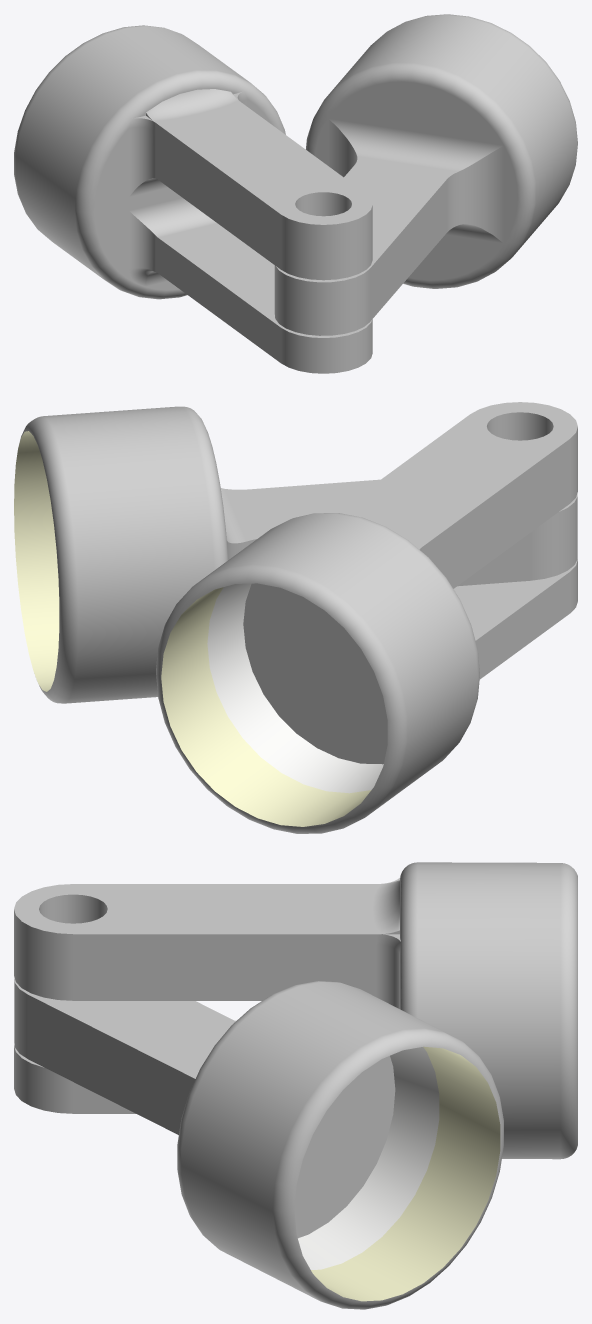
The model's file is goofin.glb.
3 views of the same model, one above another, from view 1: azimuth 30°, elevation 25°; view 2: azimuth 150°, elevation 25°; view 3: azimuth 270°, elevation 25° (orthographic). The views are drawn at different scales.
Parts seen in each view (by area): view 1: bend_b, bend_a; view 2: bend_b, bend_a; view 3: bend_a, bend_b.
Boxes of the visible parts, box(x1,y1,x2,y2) form: bend_b: box(14, 25, 372, 373); bend_a: box(274, 14, 577, 335); bend_b: box(156, 402, 577, 833); bend_a: box(14, 406, 577, 703); bend_a: box(14, 977, 503, 1309); bend_b: box(14, 862, 577, 1159).
Size of the model in its own units: 5.25 by 2.5 by 4.75.
